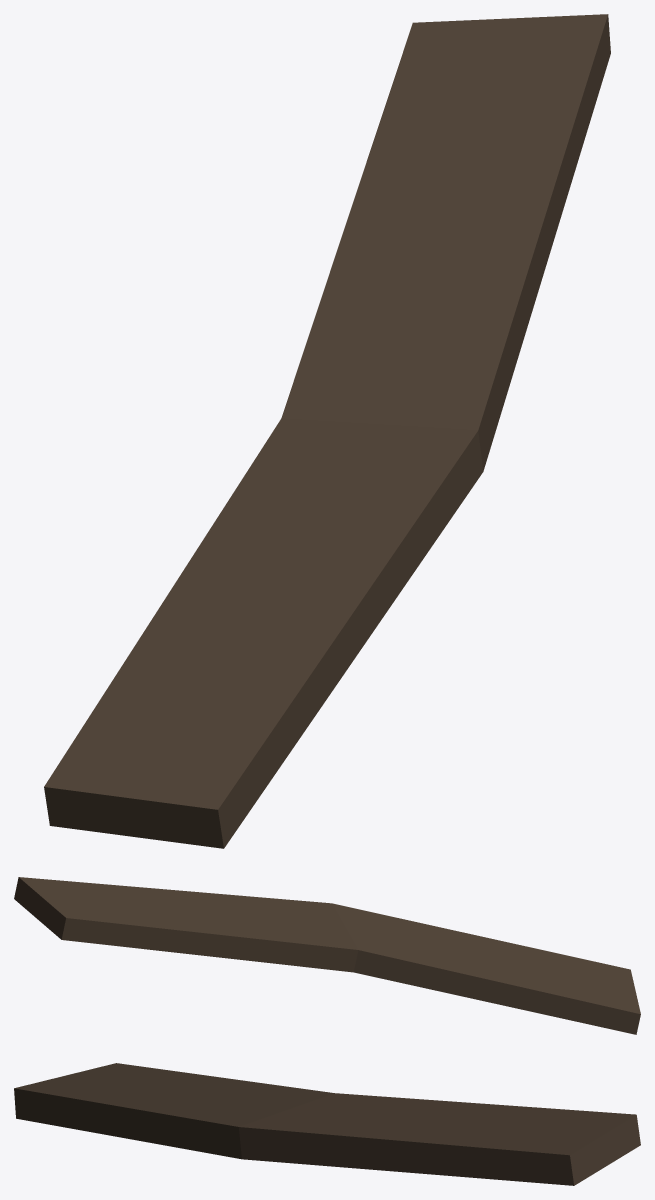
The model's file is Fireplace_modern_Log1.FBX.
3 renders of one model, top to bottom at view 1: azimuth 30°, elevation 25°; view 2: azimuth 150°, elevation 25°; view 3: azimuth 270°, elevation 25°, orthographic. The views are drawn at different scales.
Parts seen in each view (by area): view 1: Fireplace_modern_Log1; view 2: Fireplace_modern_Log1; view 3: Fireplace_modern_Log1.
Part boxes in pixels (x1,y1,x2,y2): Fireplace_modern_Log1: (44,14,610,848); Fireplace_modern_Log1: (14,877,640,1034); Fireplace_modern_Log1: (14,1063,640,1185).
Size of the model in its own units: 23.36 by 8.46 by 20.91.
Materials: 1 (1 with a texture image).
